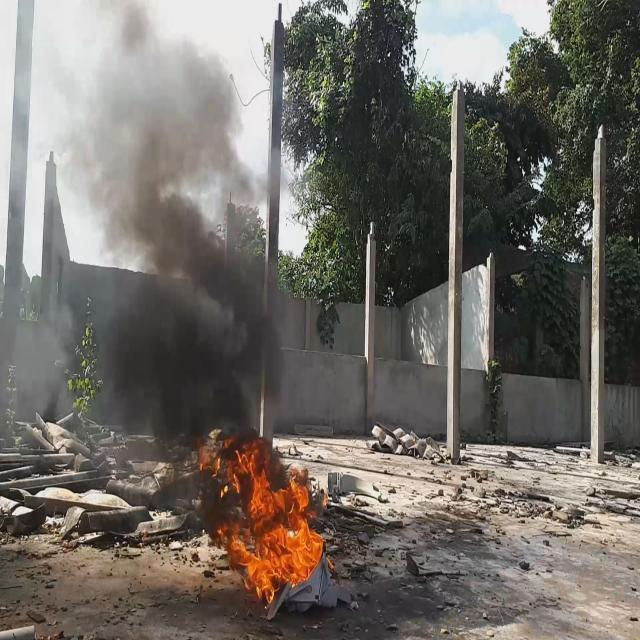Fire: (199, 435, 329, 606)
Smoke: (56, 0, 286, 529)
